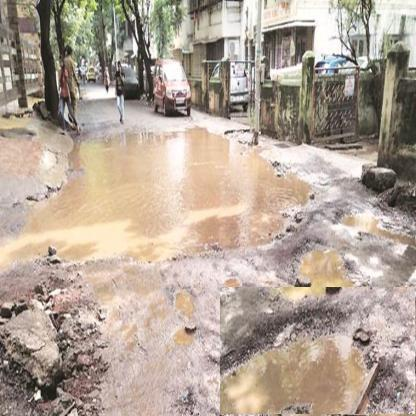pothole_water: (220, 287, 416, 415)
